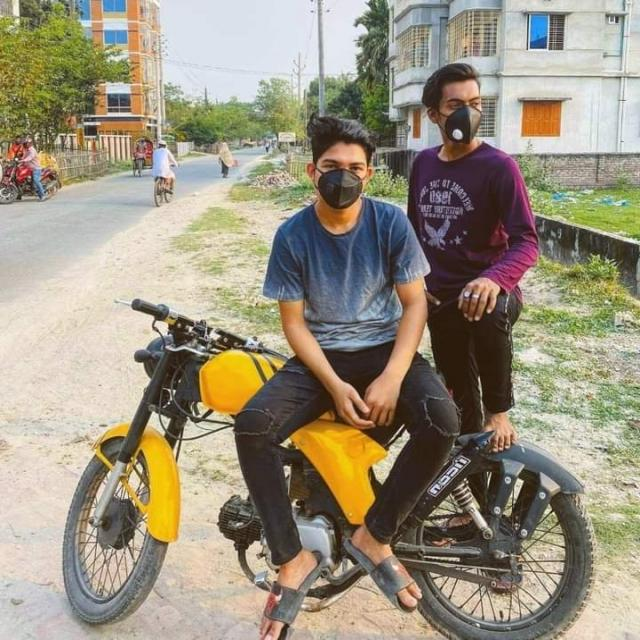Not Wearing Helmet: (253, 66, 391, 222)
